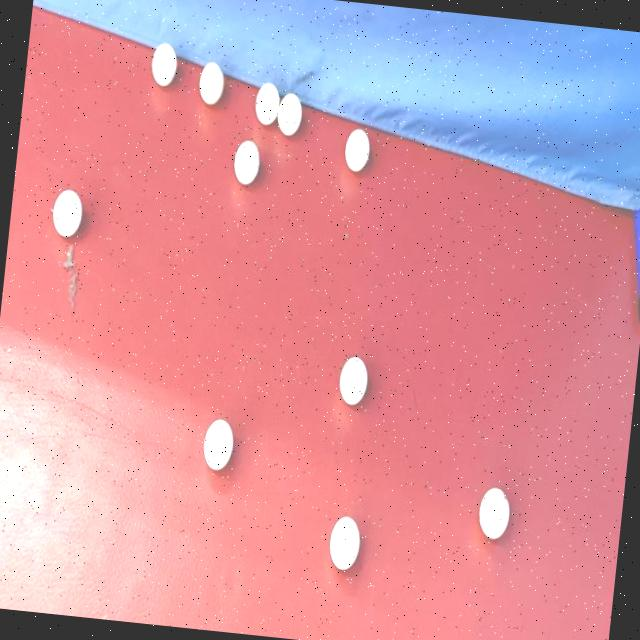ping-pong-ball: (323, 508, 367, 578), (198, 410, 240, 480), (46, 182, 88, 245), (473, 482, 512, 546), (334, 351, 372, 412), (228, 136, 264, 191), (272, 88, 306, 142), (340, 123, 374, 176), (250, 76, 284, 129), (148, 38, 181, 92), (195, 58, 228, 110)
